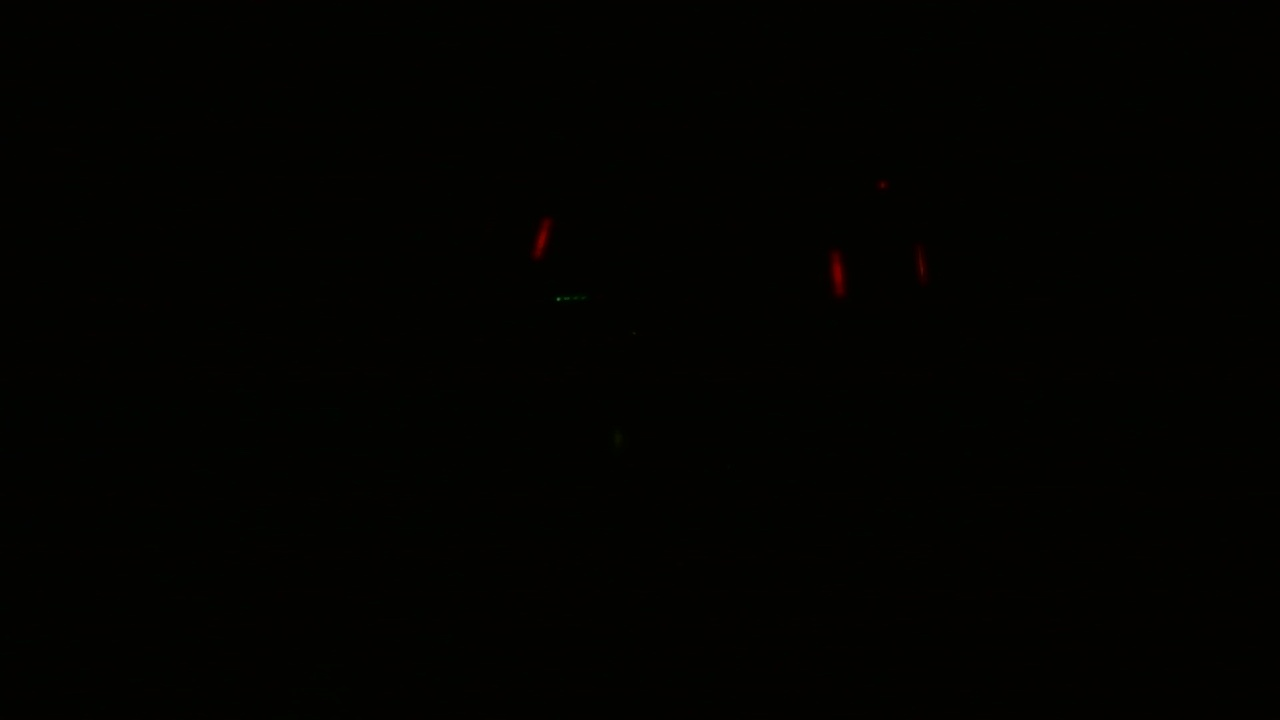pair1: (825, 237, 930, 297)
